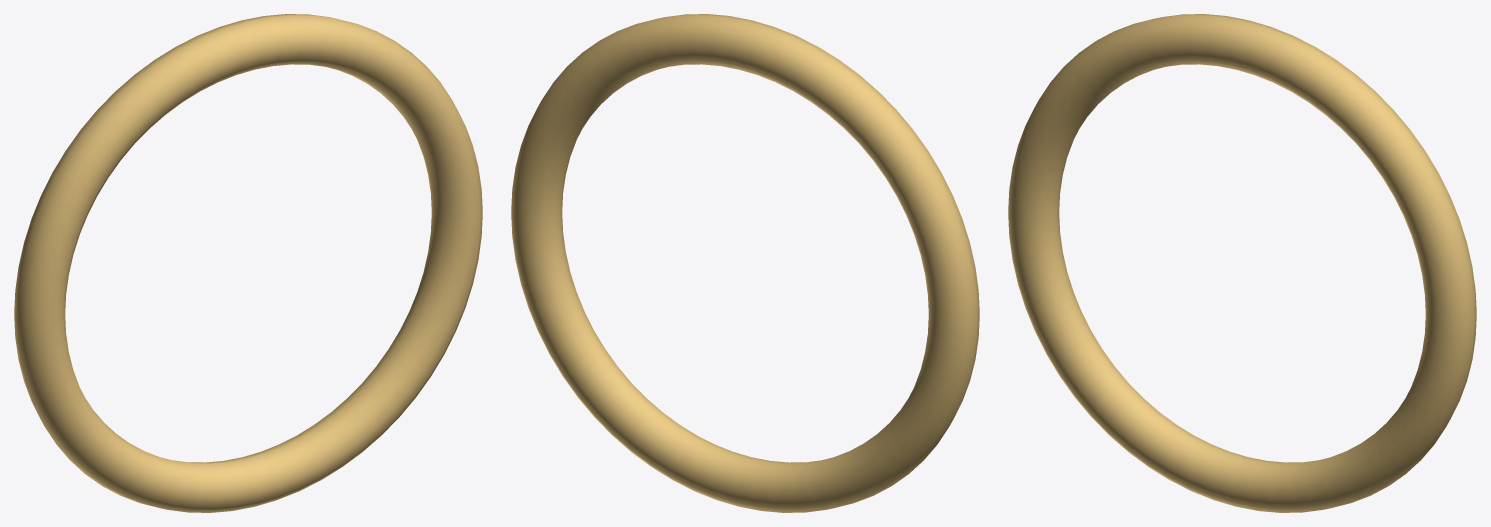
3 views of the same model, side by side, from view 1: azimuth 30°, elevation 25°; view 2: azimuth 150°, elevation 25°; view 3: azimuth 330°, elevation 25° (orthographic).
Size of the model in its own units: 1.88 by 1.88 by 0.18.
